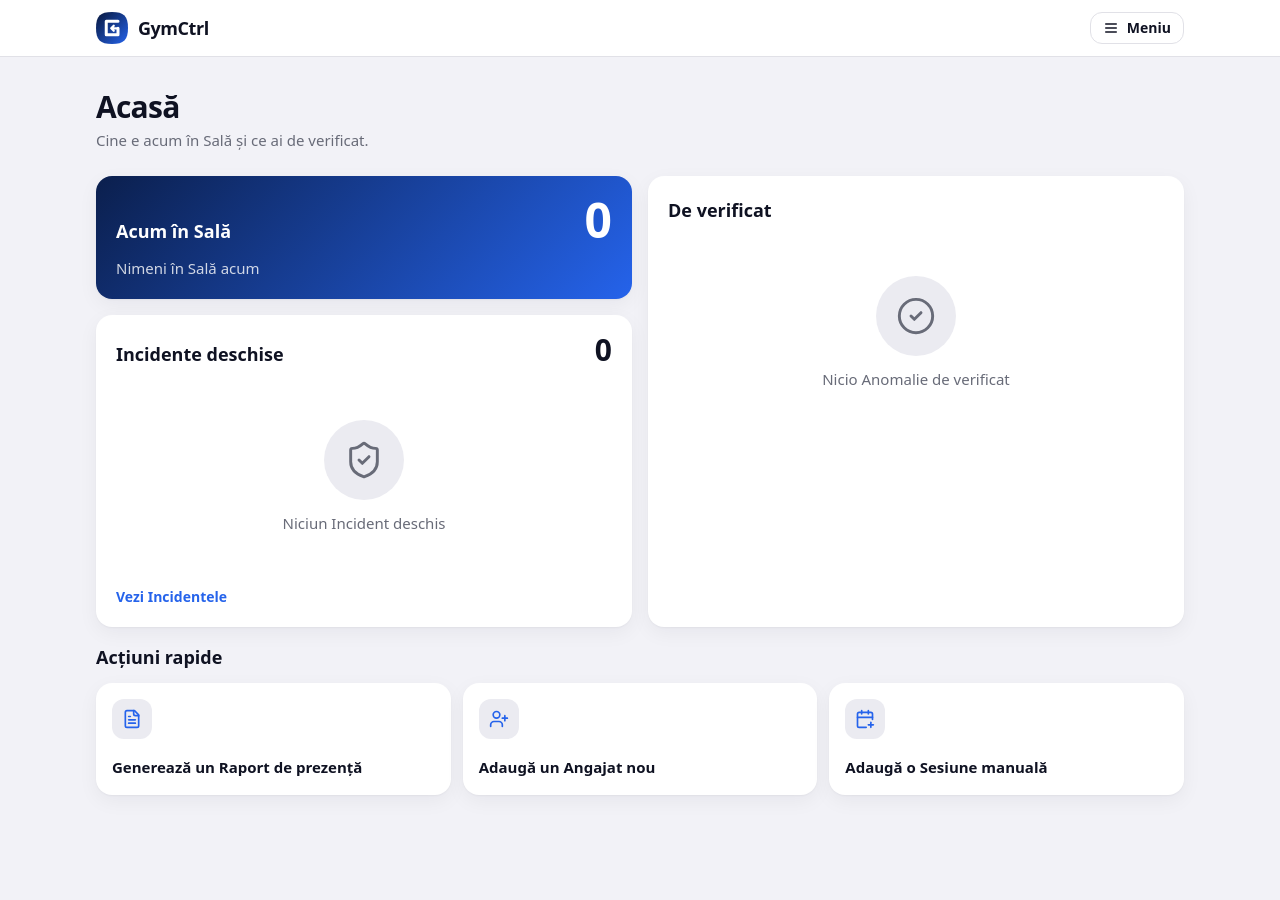
Test case: pagina de gestiune (Acasă) › are trei acțiuni rapide: Raport, Angajat nou și Sesiune manuală
Click the button "Adaugă o Sesiune manuală" at point(865, 718), box [829,682,1184,794]
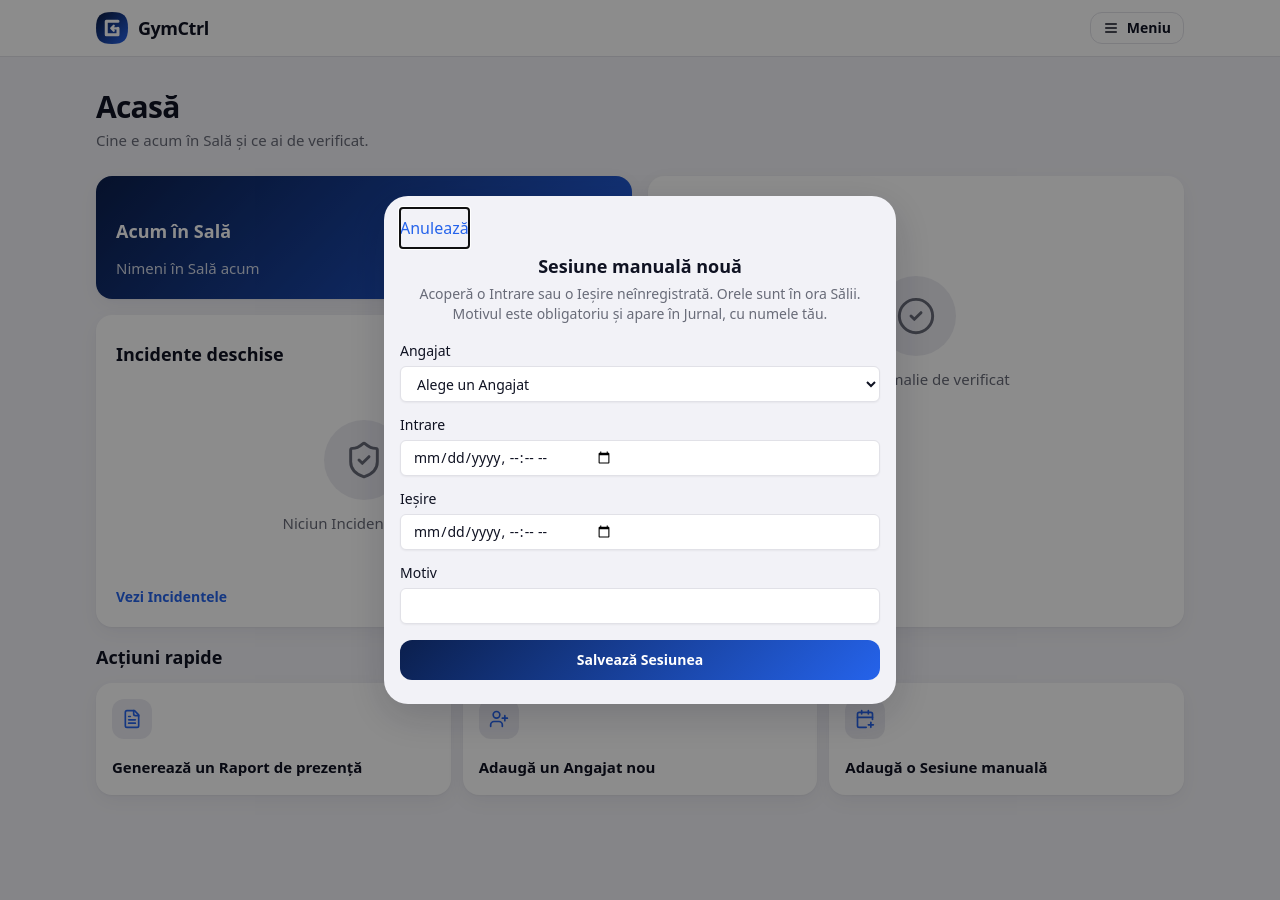
Expected: the dialog "Sesiune manuală nouă" is shown, [384,196,896,704]
